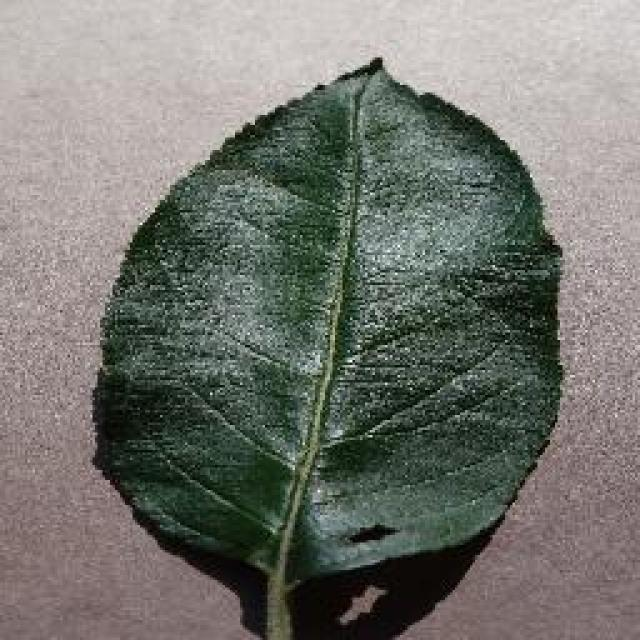apple scab disease: (87, 52, 565, 638)
